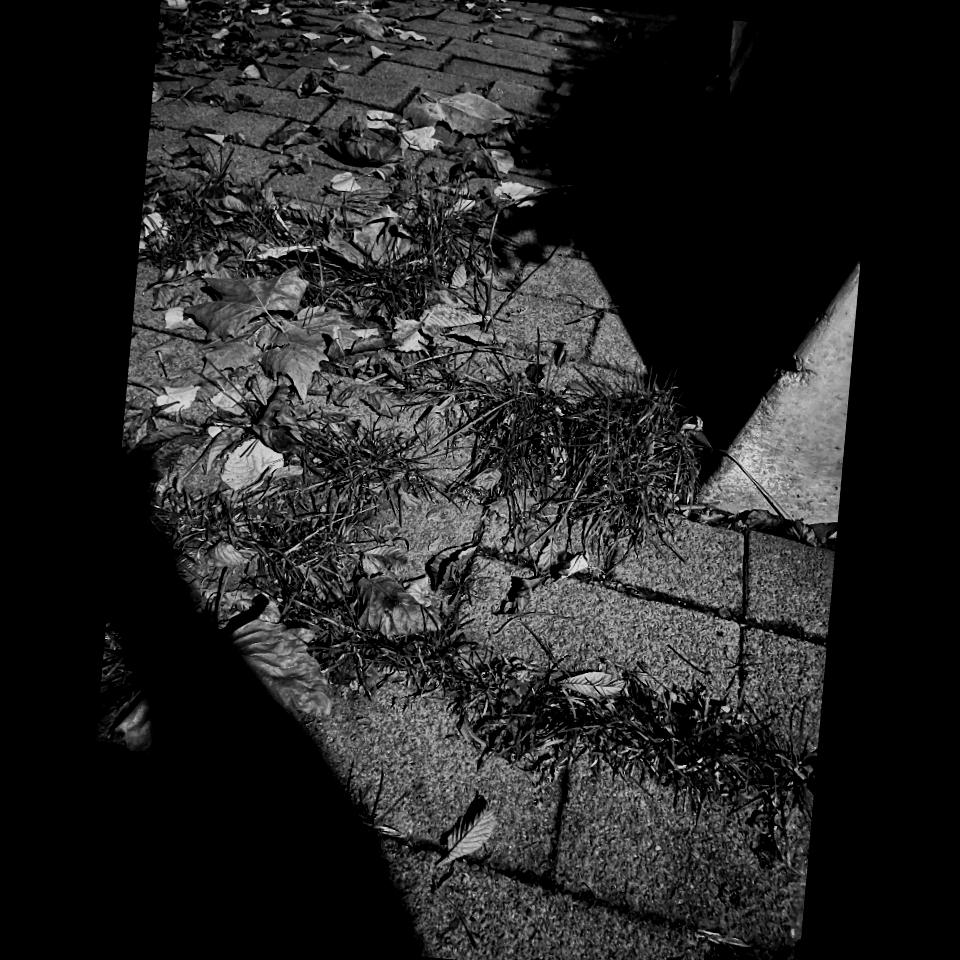weed: (108, 424, 492, 707), (151, 167, 469, 317), (458, 376, 704, 543), (504, 682, 812, 805)
